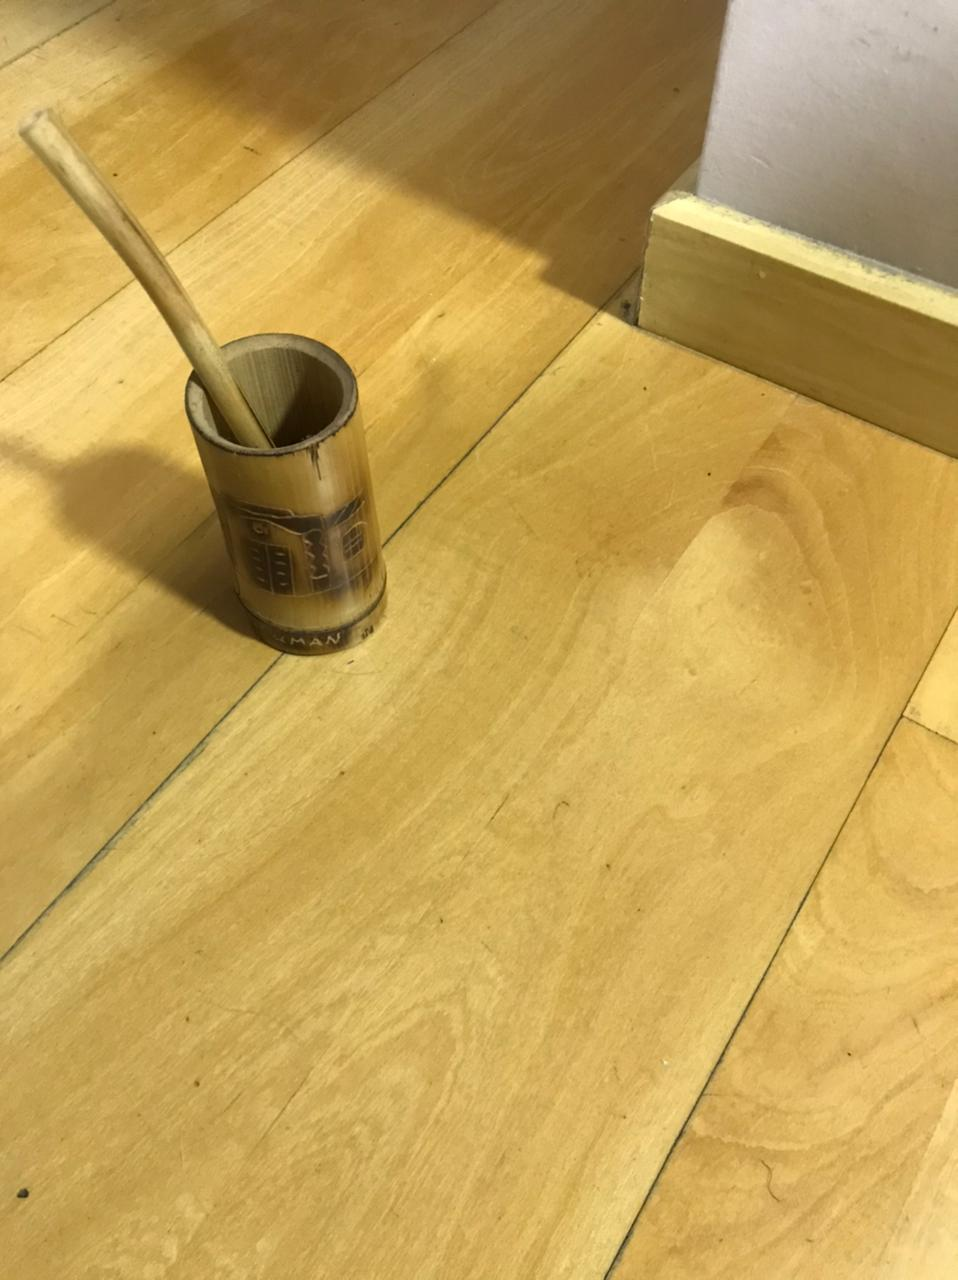mate: (12, 94, 412, 669)
